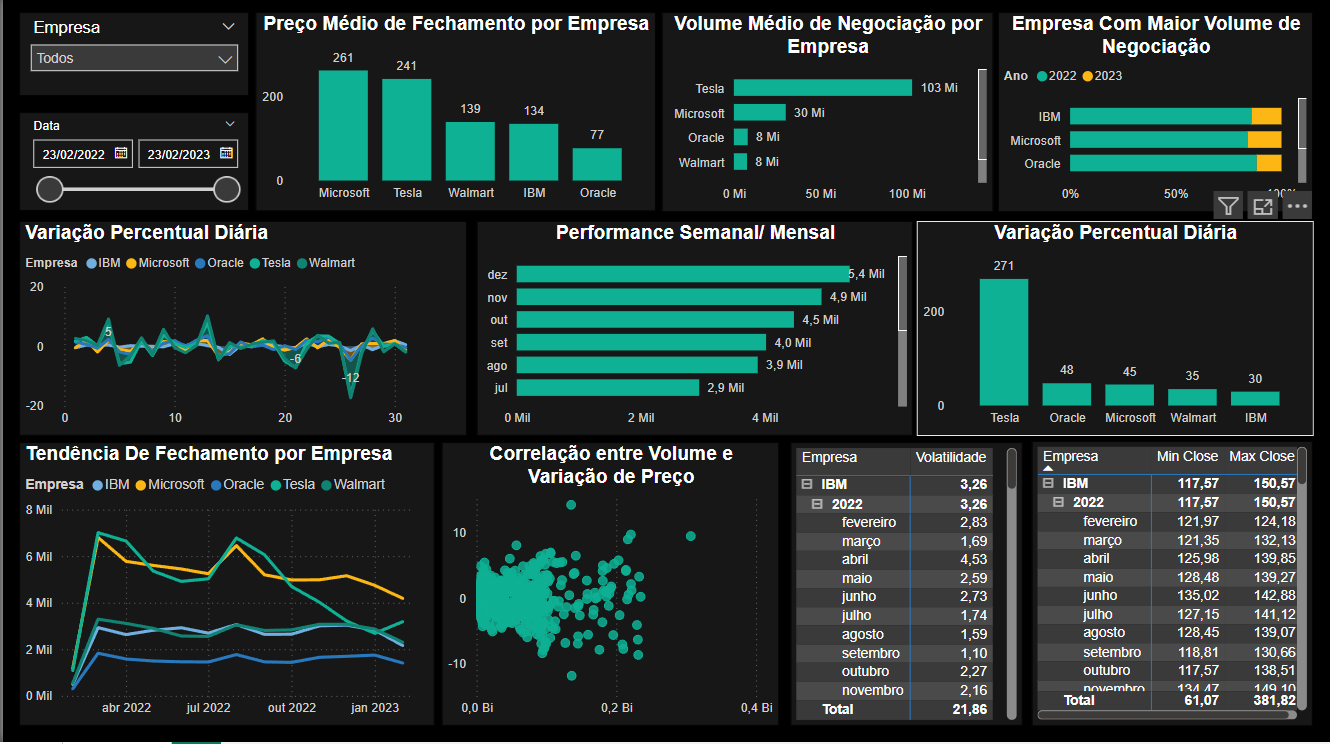

Layout of this report page (visuals, bound fields, positions):
{"tool":"powerbi","page":{"name":"Página 2","canvas":[1280,720],"ordinal":1},"visuals":[{"type":"clusteredColumnChart","title":"Preço Médio de Fechamento por Empresa","fields":{"Category":["StockMarket.Empresa"],"Y":["Avg(StockMarket.Close)"]},"box":[243.7,15.7,386.1,191.8],"z":0},{"type":"barChart","title":"Volume Médio de Negociação por Empresa","fields":{"Category":["StockMarket.Empresa"],"Y":["Medidas.Volume Médio"]},"box":[635.8,15.7,319.7,193],"z":1000},{"type":"stackedAreaChart","title":"Variação Percentual Diária","fields":{"Category":["StockMarket.Data.Variation.Hierarquia de datas.Ano","StockMarket.Data.Variation.Hierarquia de datas.Mês","StockMarket.Data.Variation.Hierarquia de datas.Dia"],"Y":["Medidas.Variação Percentual"],"Series":["StockMarket.Empresa"]},"box":[15.7,217.2,431.9,207.5],"z":2000},{"type":"pivotTable","fields":{"Rows":["StockMarket.Empresa","StockMarket.Data.Variation.Hierarquia de datas.Ano","StockMarket.Data.Variation.Hierarquia de datas.Mês"],"Values":["Medidas.Min Close","Medidas.Max Close"]},"box":[992.9,429.5,271.4,275.1],"z":3000},{"type":"pivotTable","fields":{"Rows":["StockMarket.Empresa","StockMarket.Data.Variation.Hierarquia de datas.Ano","StockMarket.Data.Variation.Hierarquia de datas.Mês"],"Values":["Medidas.Volatilidade"]},"box":[760.1,430.7,224.4,273.9],"z":4000},{"type":"hundredPercentStackedBarChart","title":"Empresa Com Maior Volume de Negociação","fields":{"Category":["StockMarket.Empresa"],"Y":["Medidas.Volume Total"],"Series":["StockMarket.Data.Variation.Hierarquia de datas.Ano"]},"box":[960.3,15.7,304,193],"z":5000},{"type":"slicer","fields":{"Values":["StockMarket.Empresa"]},"box":[15.7,15.7,222,80.8],"z":6000},{"type":"slicer","fields":{"Values":["StockMarket.Data"]},"box":[15.7,112.2,222,95.3],"z":7000},{"type":"barChart","title":"Performance Semanal/ Mensal","fields":{"Y":["Sum(StockMarket.Semana)"],"Category":["StockMarket.Mês"]},"box":[457.2,217.2,421,207.5],"z":8000},{"type":"columnChart","title":"Variação Percentual Diária","fields":{"Y":["Medidas.Variação Total"],"Category":["StockMarket.Empresa"]},"box":[881.9,217.2,382.4,207.5],"z":9000},{"type":"lineChart","title":"Tendência De Fechamento por Empresa","fields":{"Category":["StockMarket.Data.Variation.Hierarquia de datas.Ano","StockMarket.Data.Variation.Hierarquia de datas.Mês"],"Y":["Sum(StockMarket.Close)"],"Series":["StockMarket.Empresa"]},"box":[15.7,430.7,400.5,273.9],"z":10000},{"type":"scatterChart","title":"Correlação entre Volume e Variação de Preço","fields":{"X":["Sum(StockMarket.Volume)"],"Y":["Medidas.Variação Percentual"],"Category":["StockMarket.Close","StockMarket.Open"]},"box":[423.5,430.7,325.7,273.9],"z":11000}]}

Visuals, with their boxes in screenshot pixels (x1, y1, x2, y2), scaled from the page's 1280x720 canvas onto the 1330x744 screenshot:
"Preço Médio de Fechamento por Empresa" clusteredColumnChart: [253,16,654,214]
"Volume Médio de Negociação por Empresa" barChart: [661,16,993,216]
"Variação Percentual Diária" stackedAreaChart: [16,224,465,439]
pivotTable - StockMarket.Empresa x StockMarket.Data.Variation.Hierarquia de datas.Ano: [1032,444,1314,728]
pivotTable - StockMarket.Empresa x StockMarket.Data.Variation.Hierarquia de datas.Ano: [790,445,1023,728]
"Empresa Com Maior Volume de Negociação" hundredPercentStackedBarChart: [998,16,1314,216]
slicer - StockMarket.Empresa: [16,16,247,100]
slicer - StockMarket.Data: [16,116,247,214]
"Performance Semanal/ Mensal" barChart: [475,224,913,439]
"Variação Percentual Diária" columnChart: [916,224,1314,439]
"Tendência De Fechamento por Empresa" lineChart: [16,445,432,728]
"Correlação entre Volume e Variação de Preço" scatterChart: [440,445,778,728]
